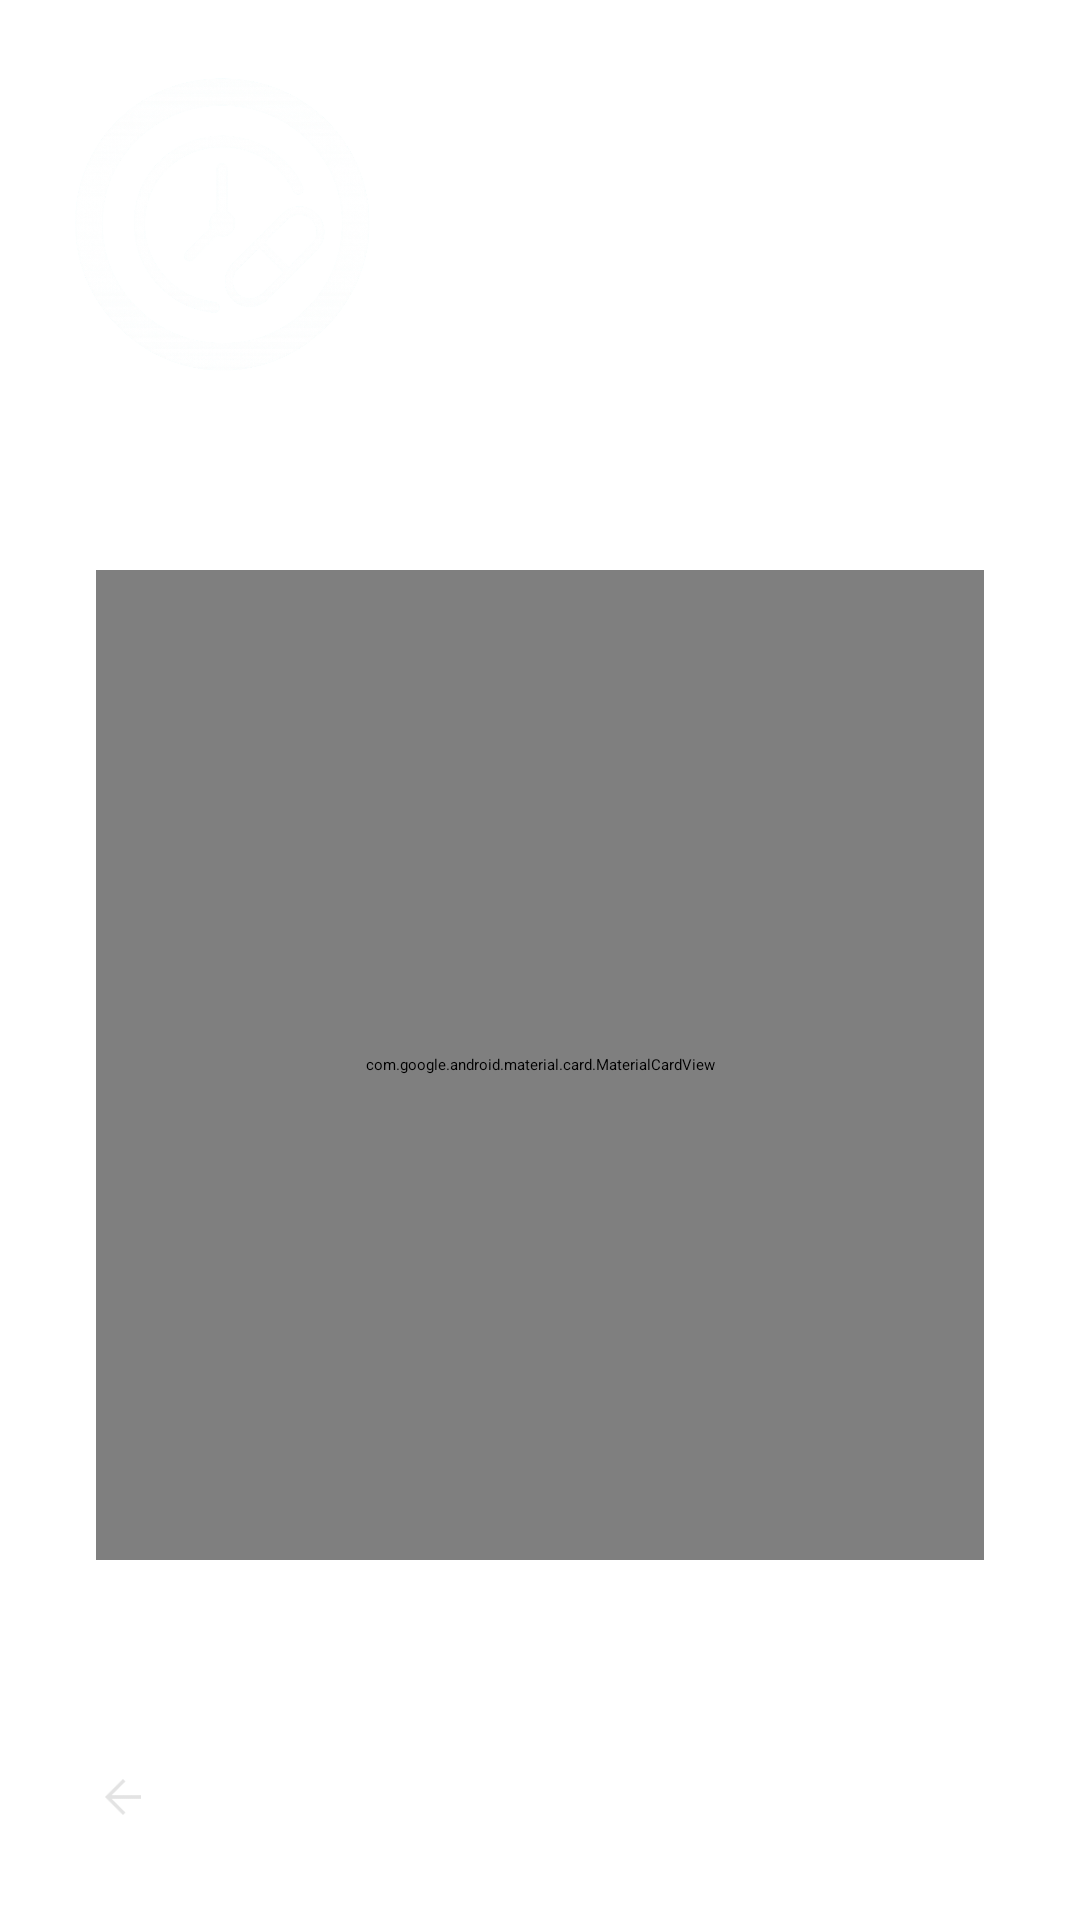

Where icons sit on this 1080px x 1920px app screen, as (x1, y1, x2, y2):
Voltar: (106, 1780, 141, 1814)
